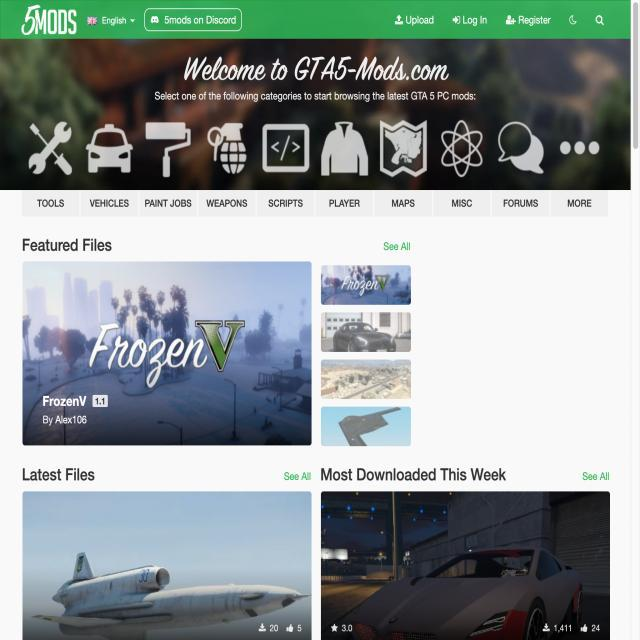button: (24, 264, 308, 444), (23, 491, 309, 636), (326, 494, 608, 637), (142, 4, 243, 32)
navigation bar: (23, 192, 608, 215)
